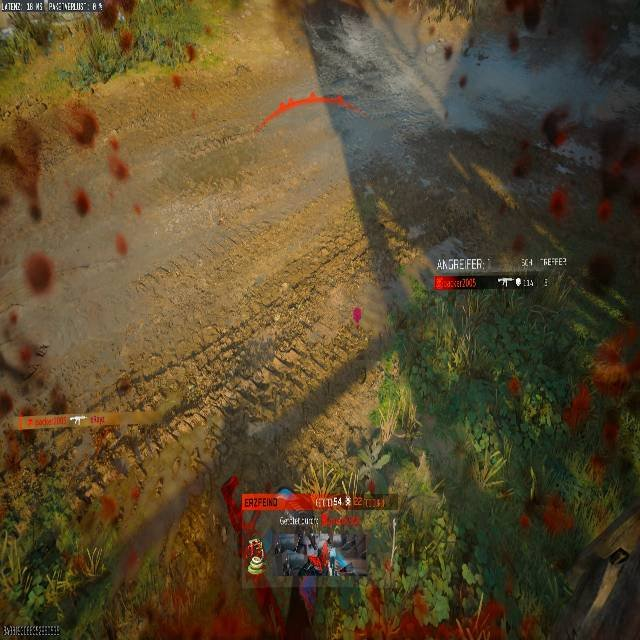head: (540, 105, 575, 147)
player: (264, 509, 370, 638)
